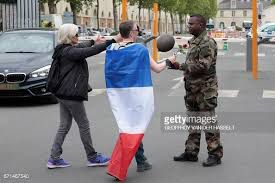French Flag: (102, 50, 154, 176)
